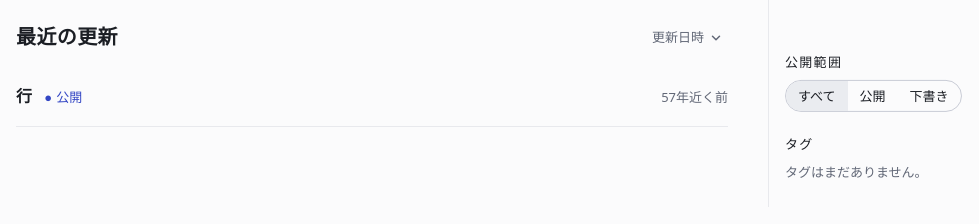
it: HomeView の並び順 › 選んだ並びは端末に残り、次に開いた一覧（タグや公開範囲で絞った一覧を含む）も同じ並びで取る
The width and height of the screenshot is (979, 224).
Expected: the list with class "entries" is shown, [16,67,728,127]
Click the button "更新日時" at point(686, 38), box [644,24,728,50]
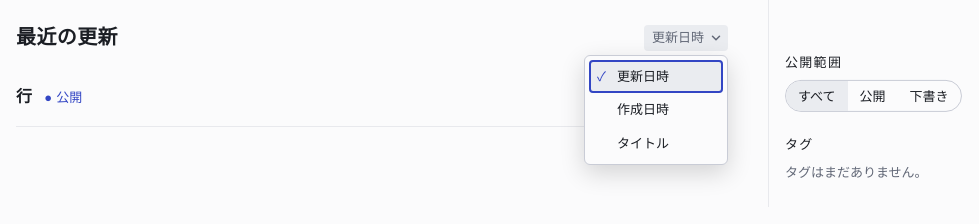
Click the menu item "作成日時" at point(656, 110), box [589,93,723,126]
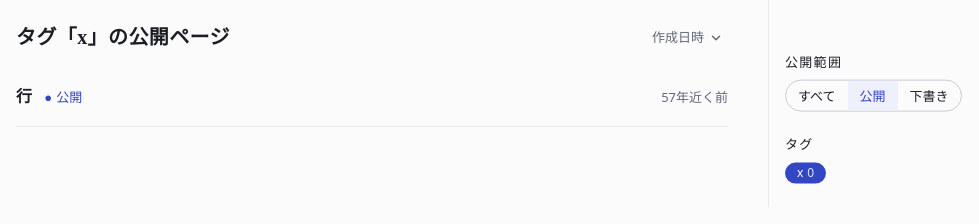
Expected: the list with class "entries" is shown, [16,67,728,127]
Now the heading "タグ「x」の公開ページ" is shown, box [16,26,230,48]
